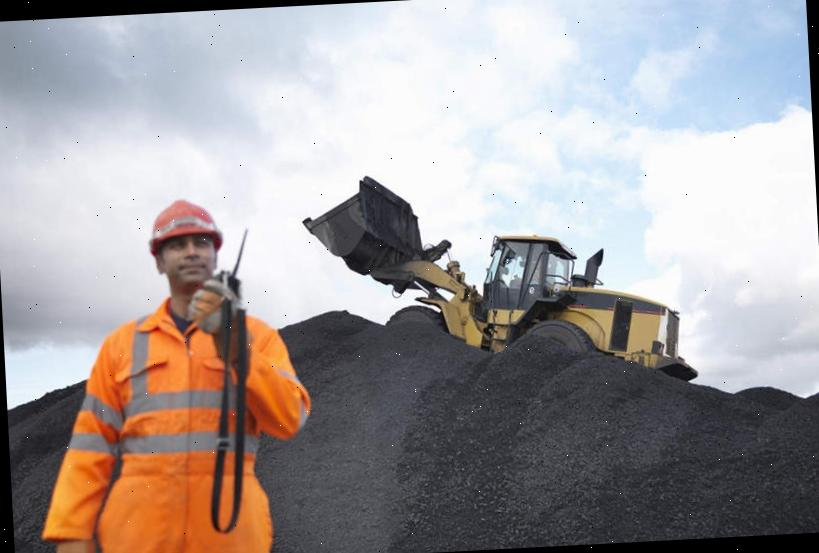helmet: (140, 195, 224, 252)
wear: (95, 302, 284, 509)
